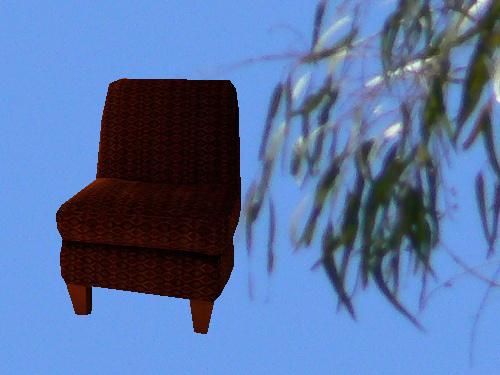tampered: (57, 79, 241, 334)
